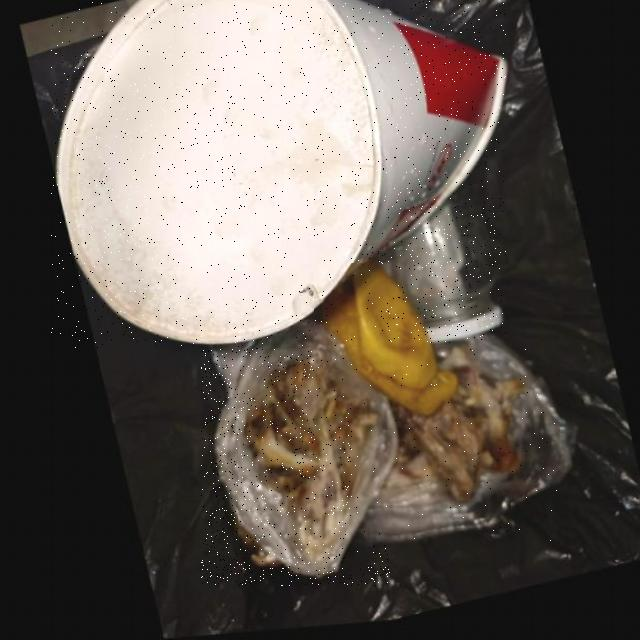biowaste: (239, 367, 372, 567), (374, 356, 518, 510), (314, 264, 452, 421)
glass: (386, 206, 497, 349)
paper: (51, 0, 506, 348)
plastic: (201, 315, 391, 586), (352, 343, 563, 545)
